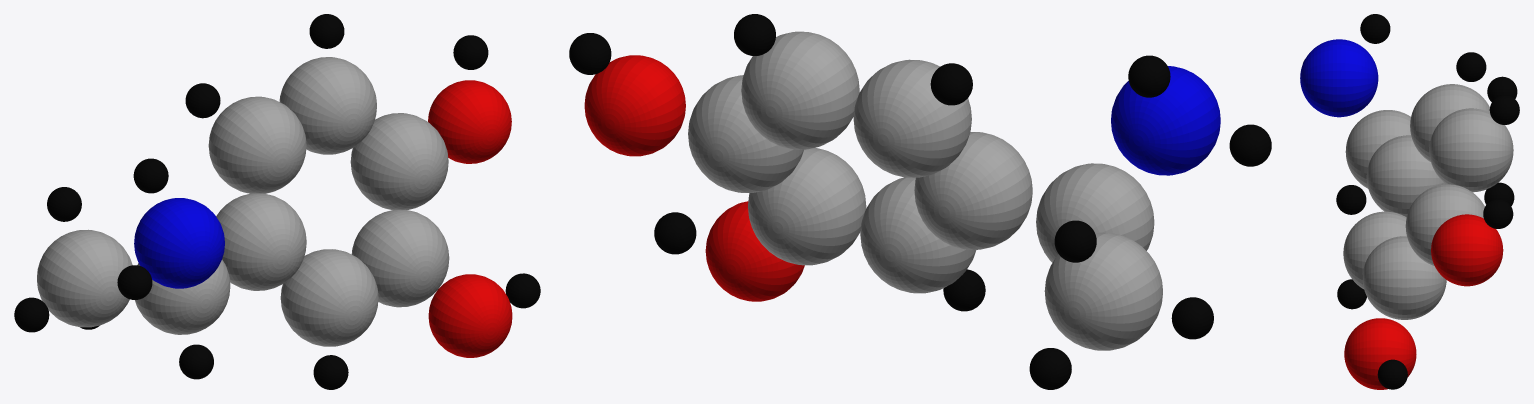
The model's file is L-Dopa.glb.
3 views of the same model, side by side, from view 1: azimuth 30°, elevation 25°; view 2: azimuth 150°, elevation 25°; view 3: azimuth 270°, elevation 25° (orthographic). The views are drawn at different scales.
Parts seen in each view (by area): view 1: world; view 2: world; view 3: world.
Boxes of the visible parts, x1,y1,x2,y2 form: world: (14,14,540,389); world: (569,14,1271,389); world: (1300,14,1519,389).
Bounding box in the file's own units: 8.27 × 4.77 × 3.65.
